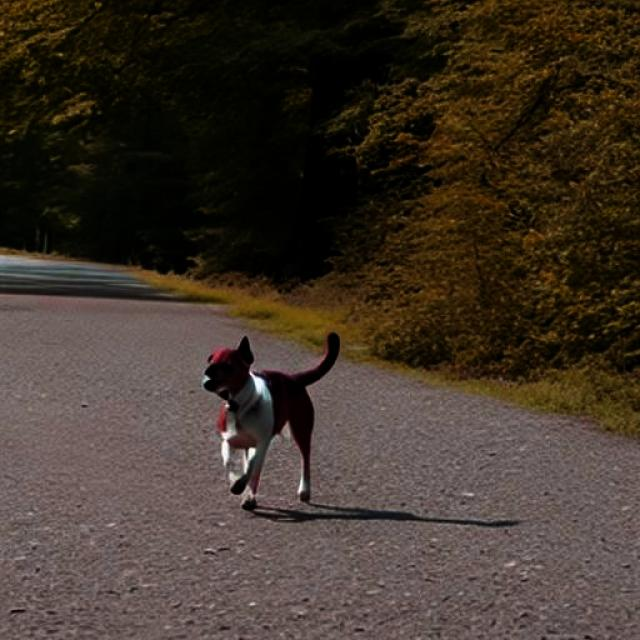Dog: (201, 331, 340, 510)
